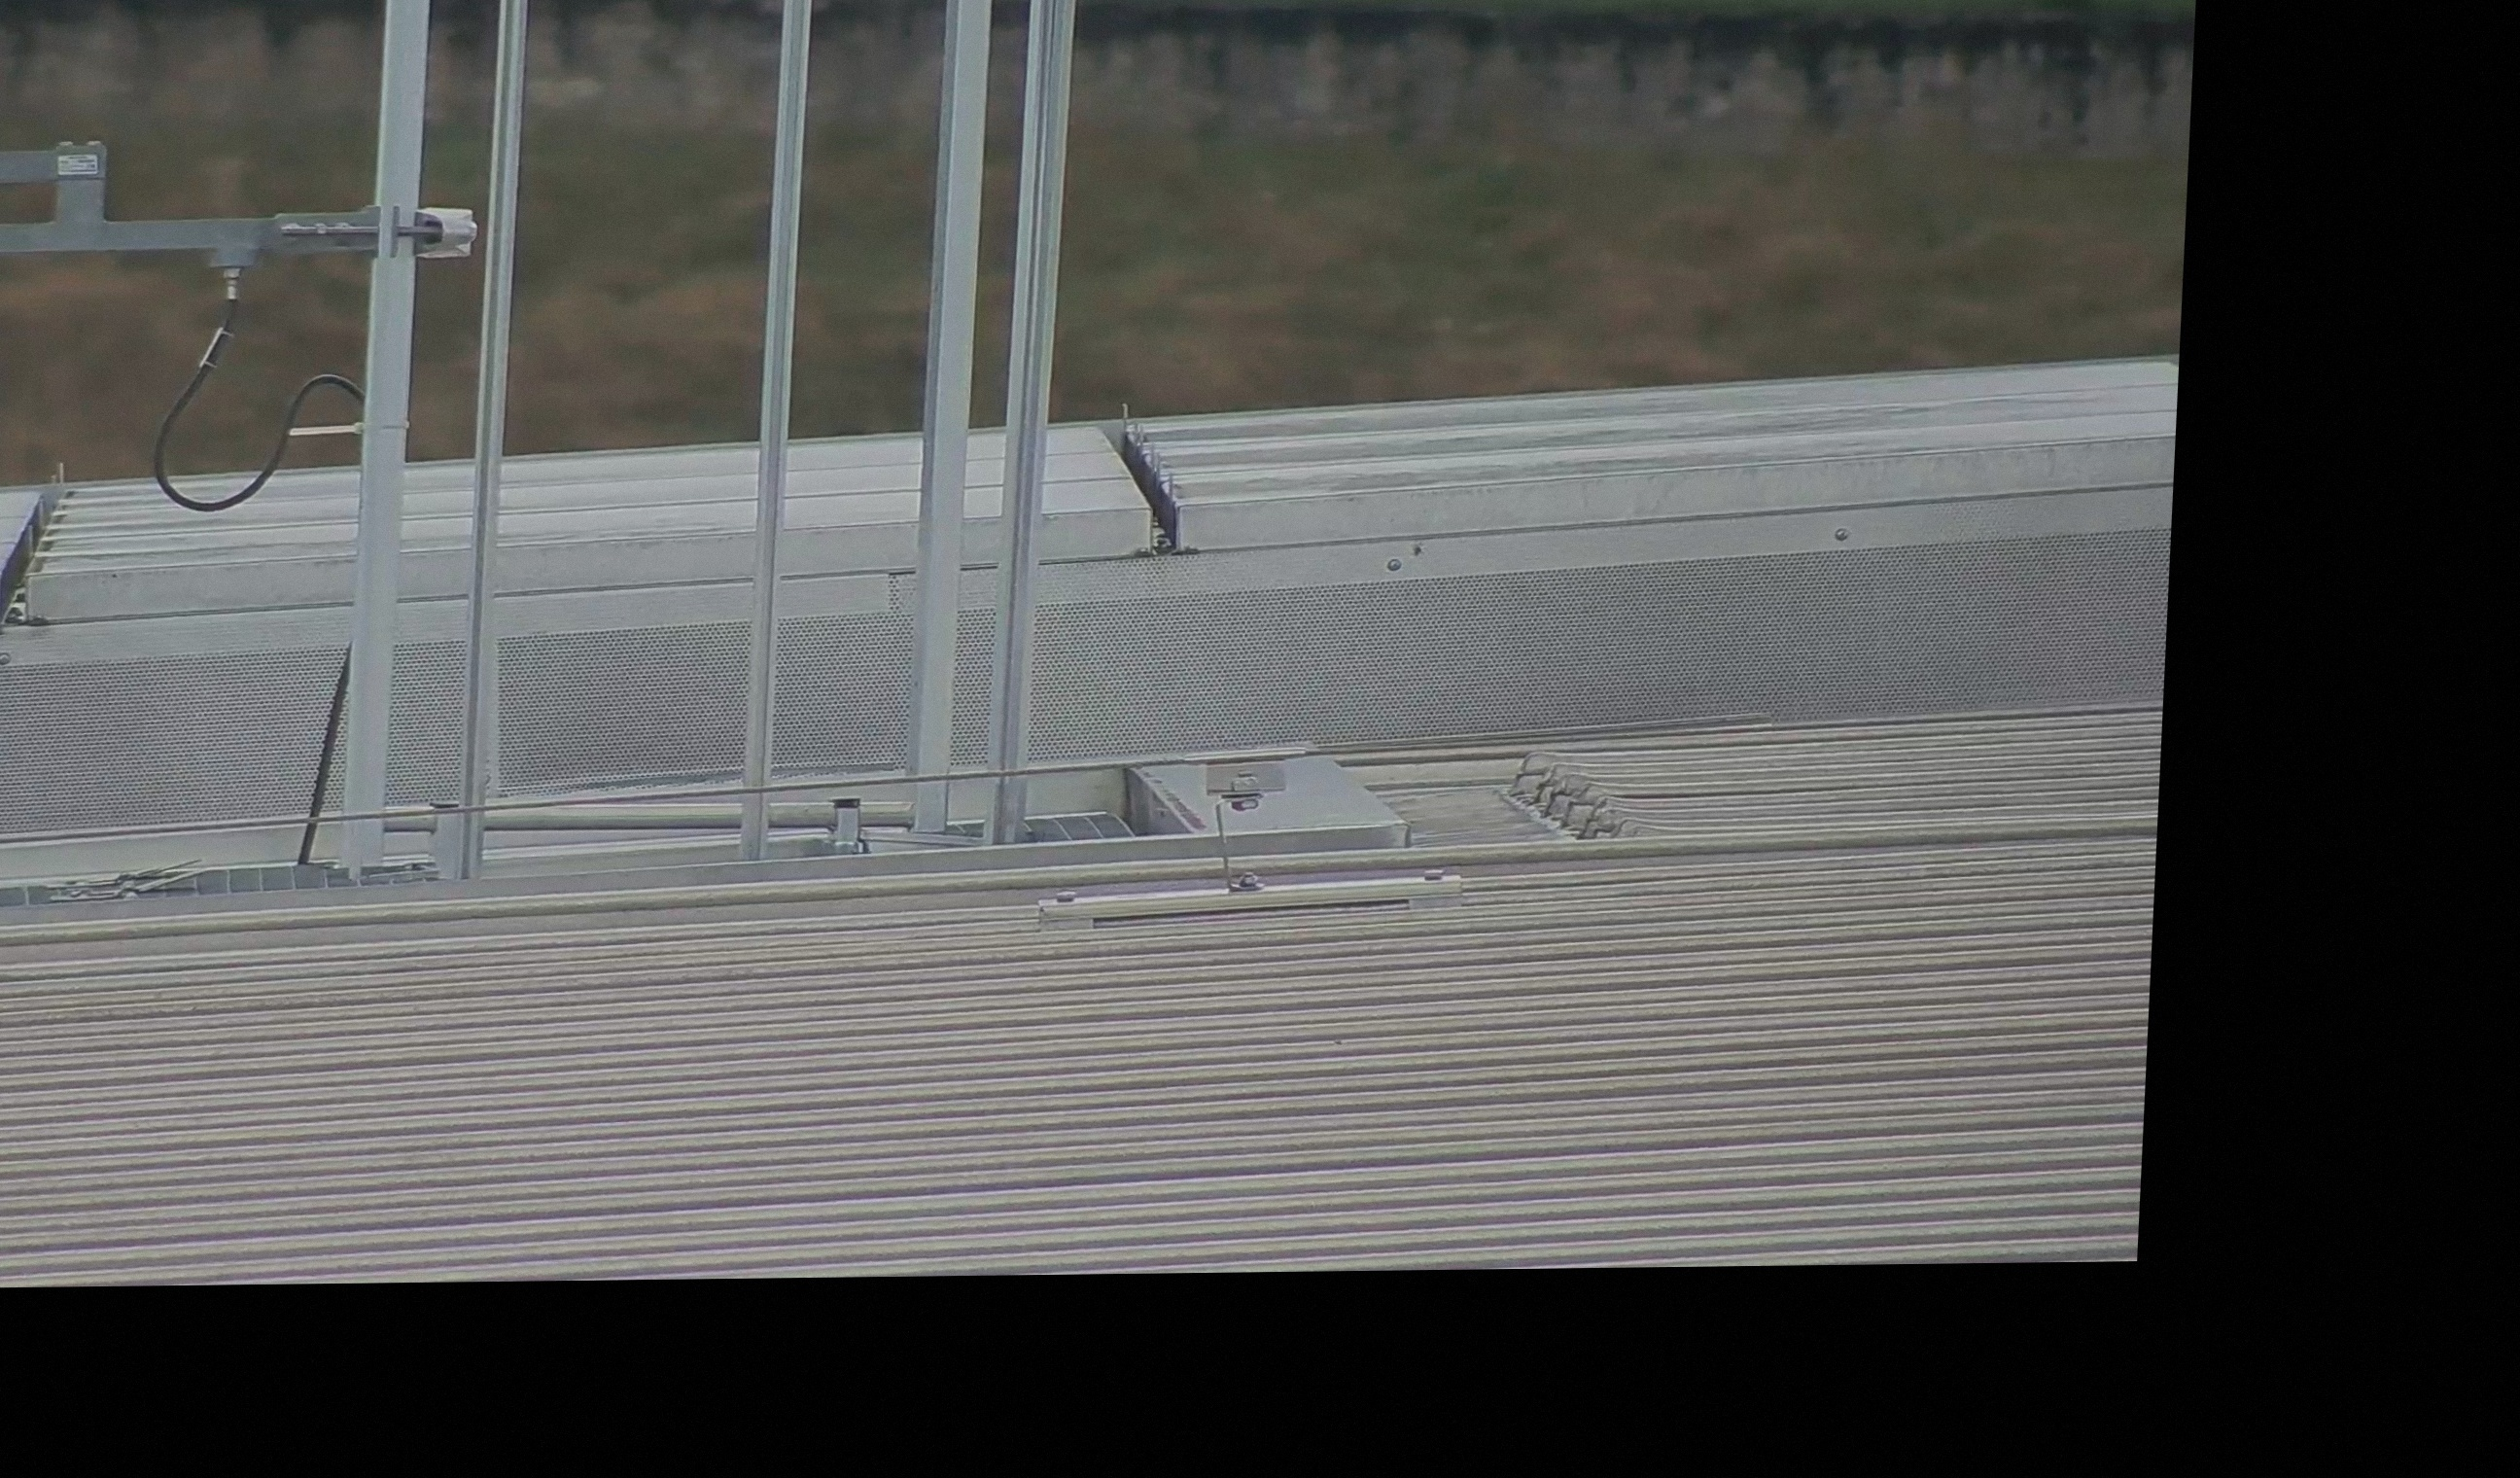Other: (1097, 403, 1206, 565)
